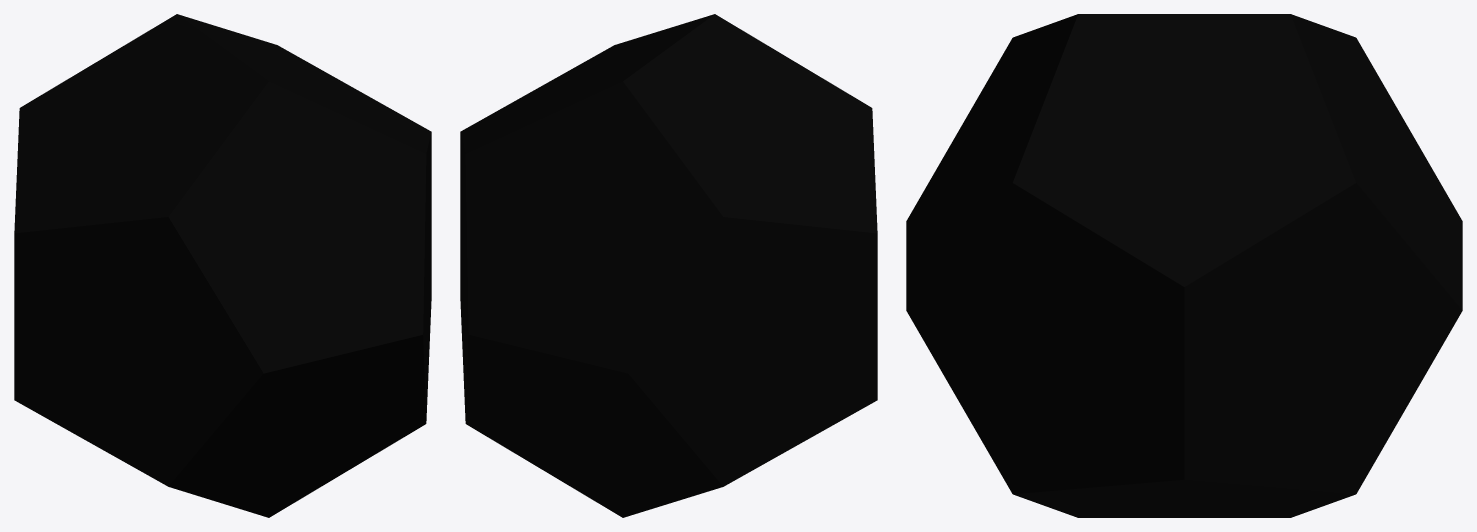
Rendered from Dodecahedron2_UVFix_5Split5.fbx.
3 views of the same model, side by side, from view 1: azimuth 30°, elevation 25°; view 2: azimuth 150°, elevation 25°; view 3: azimuth 270°, elevation 25° (orthographic). The views are drawn at different scales.
Visible parts, largest first — view 1: Solid; view 2: Solid; view 3: Solid.
Part boxes in pixels (x1,y1,x2,y2): Solid: (14, 14, 431, 517); Solid: (460, 14, 877, 517); Solid: (906, 14, 1462, 517).
Size of the model in its own units: 1.31 by 1.31 by 1.31.
1 material, 1 textured.
